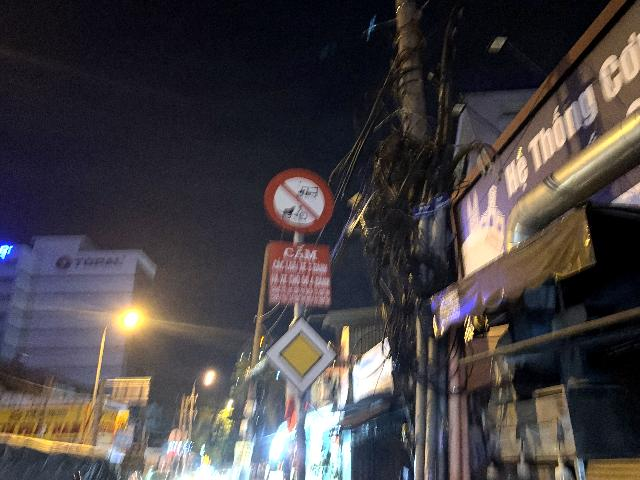bat-dau-duong-uu-tien: (263, 316, 339, 398)
cam-xe-3-banh-xe-tho-so-4-banh: (264, 166, 337, 235)
